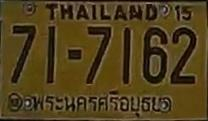1: (46, 26, 55, 84), (46, 25, 54, 83), (122, 26, 130, 84)
2: (170, 26, 196, 84)
6: (143, 27, 167, 83)
7: (10, 24, 36, 83), (86, 26, 111, 84)
AYA: (31, 88, 174, 116)
